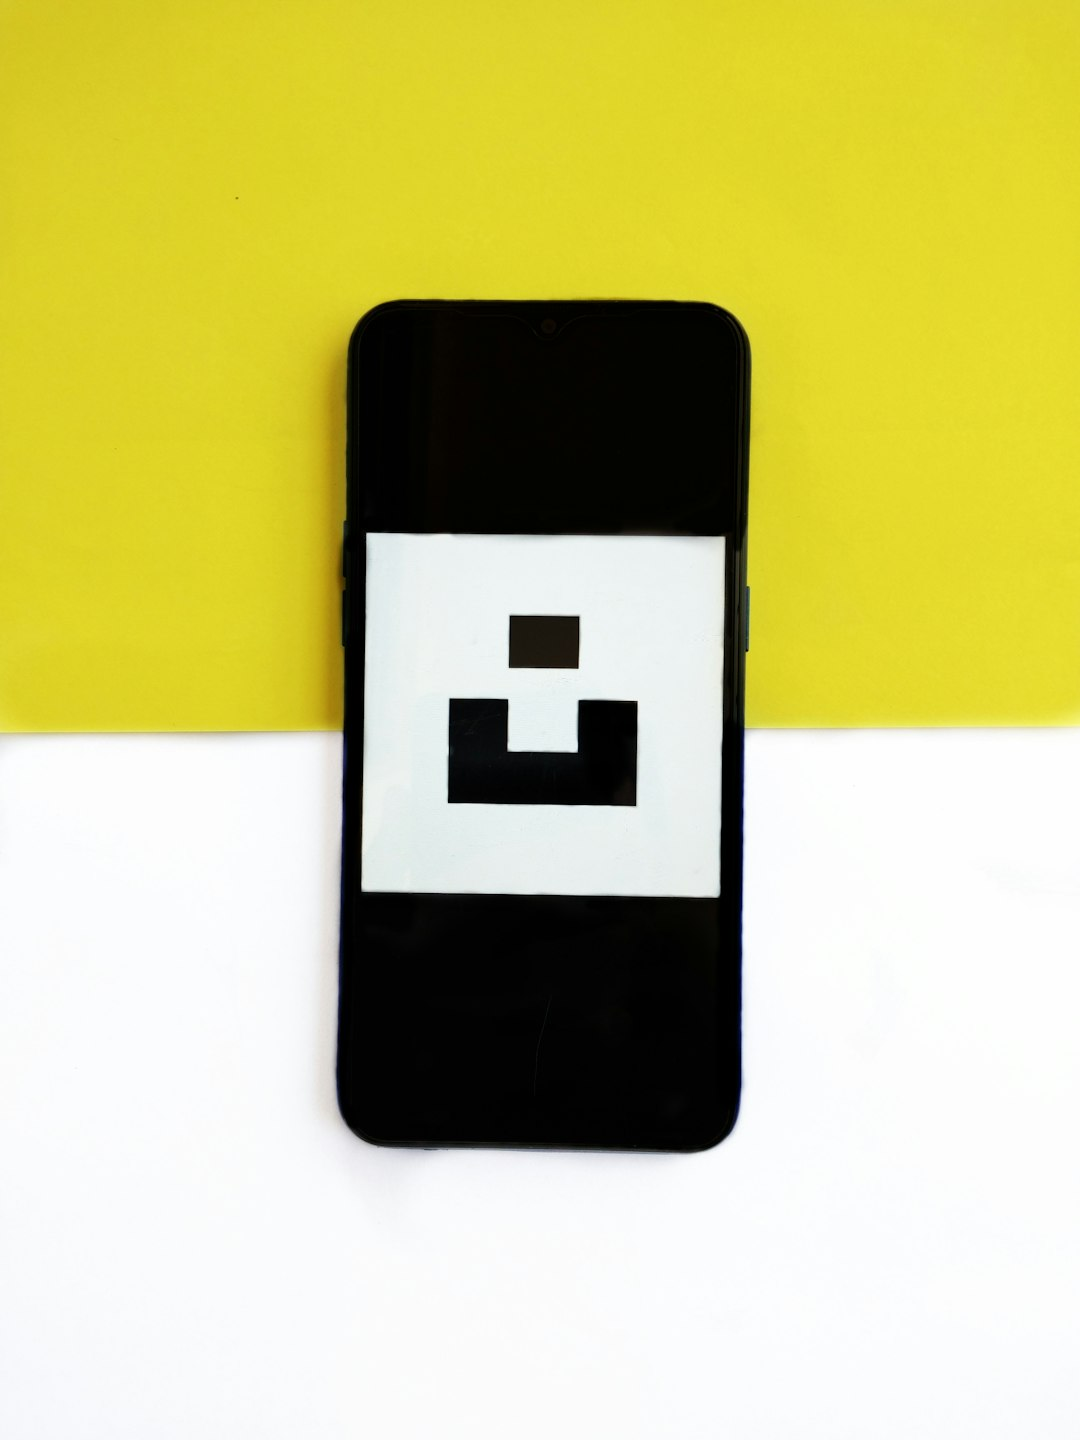phone: (334, 291, 749, 1164)
